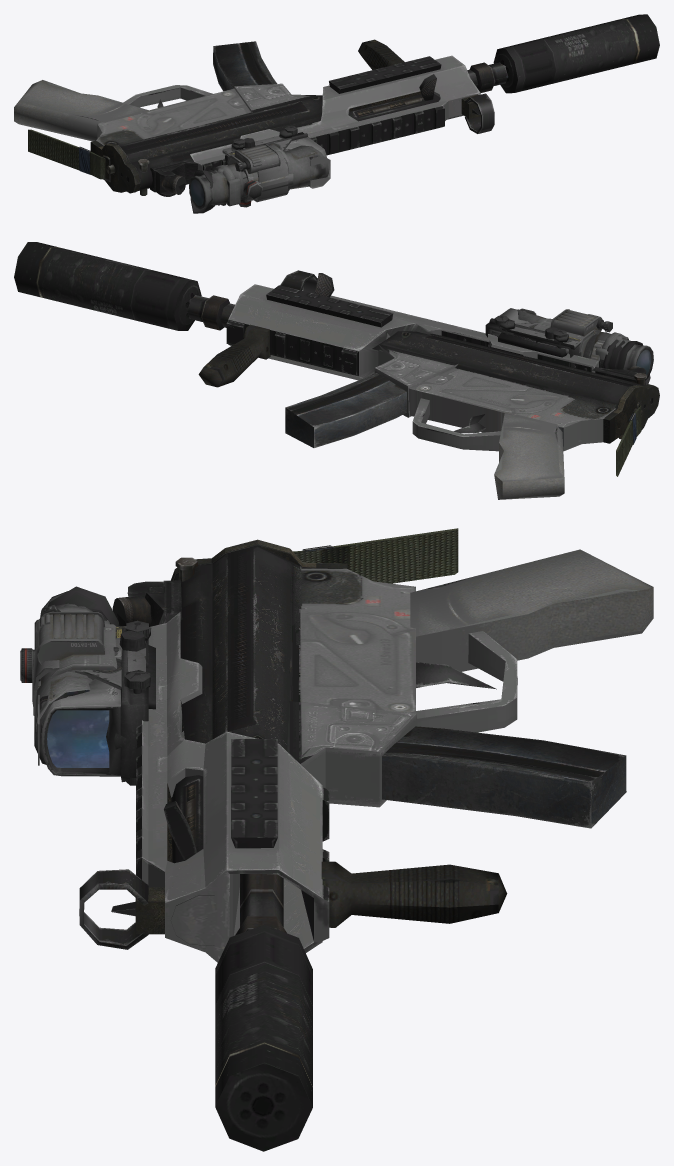
File: weapon_mp5k_red_urban_LOD0.obj
3 views of the same model, one above another, from view 1: azimuth 30°, elevation 25°; view 2: azimuth 150°, elevation 25°; view 3: azimuth 270°, elevation 25° (orthographic). The views are drawn at different scales.
Visible parts, largest first — view 1: mtl_weapon_mp5k_red_urban, mtl_weapon_suppressor_b, mtl_weapon_acog_2_red_urban, mtl_weapon_thermal_sight_2_red_urban, mtl_weapon_eotech_2_red_urban, mtl_weapon_mp5k_iron_sight, mtl_weapon_m4_foregrip, mtl_weapon_red_dot_sight_red_urban; view 2: mtl_weapon_mp5k_red_urban, mtl_weapon_suppressor_b, mtl_weapon_thermal_sight_2_red_urban, mtl_weapon_m4_foregrip, mtl_weapon_acog_2_red_urban, mtl_weapon_eotech_2_red_urban, mtl_weapon_red_dot_sight_red_urban, mtl_weapon_mp5k_iron_sight; view 3: mtl_weapon_mp5k_red_urban, mtl_weapon_suppressor_b, mtl_weapon_m4_foregrip, mtl_weapon_thermal_sight_2_red_urban, mtl_weapon_red_dot_sight_red_urban, mtl_weapon_mp5k_iron_sight, mtl_weapon_reflex_lens, mtl_weapon_acog_2_red_urban, mtl_weapon_eotech_2_red_urban.
Part boxes in pixels (left/top/right/bottom): mtl_weapon_mp5k_red_urban: left=14, top=41, right=508, bottom=196; mtl_weapon_suppressor_b: left=493, top=14, right=659, bottom=93; mtl_weapon_acog_2_red_urban: left=189, top=129, right=328, bottom=209; mtl_weapon_thermal_sight_2_red_urban: left=190, top=138, right=330, bottom=213; mtl_weapon_eotech_2_red_urban: left=222, top=136, right=291, bottom=202; mtl_weapon_mp5k_iron_sight: left=461, top=93, right=494, bottom=133; mtl_weapon_m4_foregrip: left=358, top=39, right=404, bottom=69; mtl_weapon_red_dot_sight_red_urban: left=224, top=126, right=326, bottom=165; mtl_weapon_mp5k_red_urban: left=187, top=273, right=659, bottom=499; mtl_weapon_suppressor_b: left=14, top=242, right=201, bottom=330; mtl_weapon_thermal_sight_2_red_urban: left=520, top=308, right=650, bottom=384; mtl_weapon_m4_foregrip: left=198, top=324, right=270, bottom=387; mtl_weapon_acog_2_red_urban: left=492, top=309, right=653, bottom=380; mtl_weapon_eotech_2_red_urban: left=490, top=322, right=581, bottom=366; mtl_weapon_red_dot_sight_red_urban: left=485, top=308, right=581, bottom=367; mtl_weapon_mp5k_iron_sight: left=280, top=270, right=317, bottom=293; mtl_weapon_mp5k_red_urban: left=112, top=528, right=653, bottom=962; mtl_weapon_suppressor_b: left=215, top=924, right=312, bottom=1151; mtl_weapon_m4_foregrip: left=321, top=861, right=507, bottom=927; mtl_weapon_thermal_sight_2_red_urban: left=33, top=586, right=146, bottom=765; mtl_weapon_red_dot_sight_red_urban: left=41, top=620, right=150, bottom=785; mtl_weapon_mp5k_iron_sight: left=79, top=869, right=164, bottom=949; mtl_weapon_reflex_lens: left=47, top=710, right=109, bottom=767; mtl_weapon_acog_2_red_urban: left=20, top=591, right=151, bottom=764; mtl_weapon_eotech_2_red_urban: left=32, top=626, right=155, bottom=750.
Bounding box in the file's own units: 61.31 × 6.57 × 29.44.
